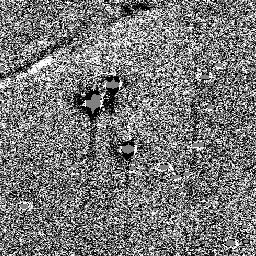LE: (101, 6, 157, 34), (4, 56, 56, 77)
